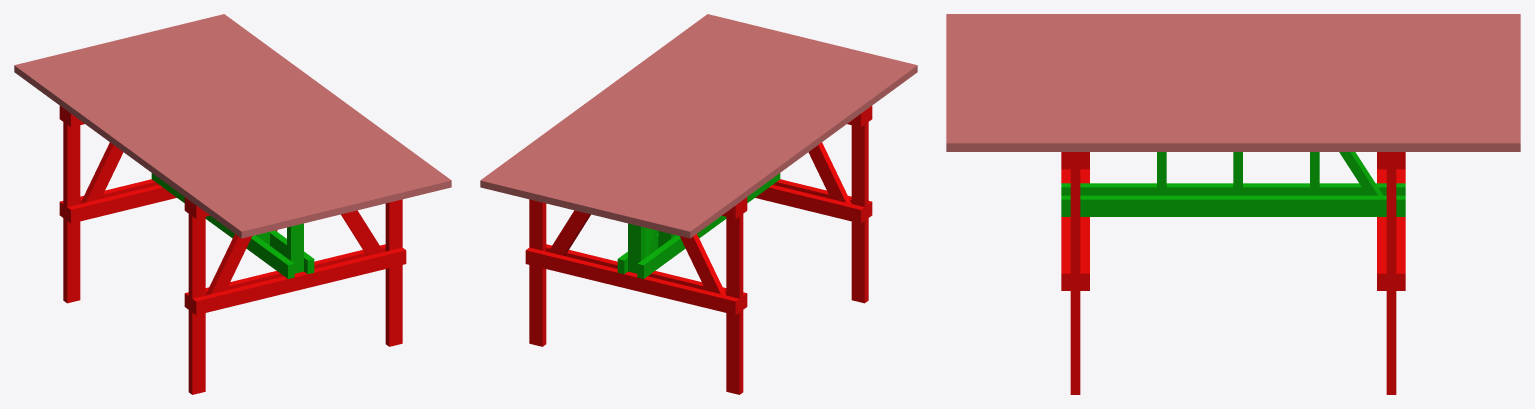
The model's file is result.glb.
The picture shows the model from 3 angles, left to right: view 1: azimuth 30°, elevation 25°; view 2: azimuth 150°, elevation 25°; view 3: azimuth 270°, elevation 25°; orthographic projection. The views are drawn at different scales.
Visible parts, largest first — view 1: 35271246-ea34-4ec2-9e37-afa7bac7e5cb__Box, 8b92faec-6083-4287-a135-32f717e7b65d__sideH, 48c559bc-23a1-4c82-92f4-0b4250e24d1e__undefined, 78a2269e-43e1-4c47-a380-e79ff9c71a5b__undefined, 9297421a-2fb1-42e6-9c2f-ee0a44c578b8__undefined, 107da0da-3193-4d42-be2b-08af71c936f6__undefined, 5f61df21-dd31-44f1-be05-f049219c79ce__undefined, 9a8c8ed5-bf7d-4f4a-8162-3fc7d1ec7a82__undefined, e8b2d282-2828-4b1d-aa57-21a5cd364a72__undefined, 3332d265-4316-4908-9f7e-878a95461efc__undefined, a285be14-9536-4756-a319-9a78d5e9d613__undefined, 9312709c-b953-45e3-a081-5a37cf7dfb03__undefined (+17 smaller); view 2: 35271246-ea34-4ec2-9e37-afa7bac7e5cb__Box, da246195-70be-41dd-81f4-46867bee27ae__undefined, 48c559bc-23a1-4c82-92f4-0b4250e24d1e__undefined, 78a2269e-43e1-4c47-a380-e79ff9c71a5b__undefined, 9297421a-2fb1-42e6-9c2f-ee0a44c578b8__undefined, 107da0da-3193-4d42-be2b-08af71c936f6__undefined, 5f61df21-dd31-44f1-be05-f049219c79ce__undefined, 9a8c8ed5-bf7d-4f4a-8162-3fc7d1ec7a82__undefined, e8b2d282-2828-4b1d-aa57-21a5cd364a72__undefined, 3332d265-4316-4908-9f7e-878a95461efc__undefined, a285be14-9536-4756-a319-9a78d5e9d613__undefined, 9312709c-b953-45e3-a081-5a37cf7dfb03__undefined (+16 smaller); view 3: 9a8c8ed5-bf7d-4f4a-8162-3fc7d1ec7a82__undefined, d8ca3034-55cf-4224-a949-6d39c838ebb6__strutH, 9297421a-2fb1-42e6-9c2f-ee0a44c578b8__undefined, ac04bc89-c05c-4e61-a384-d1fdd43e955b__undefined, 107da0da-3193-4d42-be2b-08af71c936f6__undefined, 5f61df21-dd31-44f1-be05-f049219c79ce__undefined, 396cd971-c54a-4d00-96ba-173b8401a8fc__undefined, 48c559bc-23a1-4c82-92f4-0b4250e24d1e__undefined, e8b2d282-2828-4b1d-aa57-21a5cd364a72__undefined, 9312709c-b953-45e3-a081-5a37cf7dfb03__undefined, dbcc3bc5-d2bb-4f56-b766-4cba9640e7ab__undefined, 78a2269e-43e1-4c47-a380-e79ff9c71a5b__undefined (+13 smaller).
Boxes of the visible parts, bbox=[...] form: 35271246-ea34-4ec2-9e37-afa7bac7e5cb__Box: bbox=[14, 62, 254, 238]; 8b92faec-6083-4287-a135-32f717e7b65d__sideH: bbox=[192, 247, 406, 315]; 48c559bc-23a1-4c82-92f4-0b4250e24d1e__undefined: bbox=[93, 43, 333, 219]; 78a2269e-43e1-4c47-a380-e79ff9c71a5b__undefined: bbox=[172, 23, 412, 199]; 9297421a-2fb1-42e6-9c2f-ee0a44c578b8__undefined: bbox=[27, 59, 267, 235]; 107da0da-3193-4d42-be2b-08af71c936f6__undefined: bbox=[54, 52, 294, 228]; 5f61df21-dd31-44f1-be05-f049219c79ce__undefined: bbox=[67, 49, 307, 225]; 9a8c8ed5-bf7d-4f4a-8162-3fc7d1ec7a82__undefined: bbox=[211, 14, 451, 190]; e8b2d282-2828-4b1d-aa57-21a5cd364a72__undefined: bbox=[106, 39, 346, 215]; 3332d265-4316-4908-9f7e-878a95461efc__undefined: bbox=[185, 20, 425, 196]; a285be14-9536-4756-a319-9a78d5e9d613__undefined: bbox=[198, 17, 438, 193]; 9312709c-b953-45e3-a081-5a37cf7dfb03__undefined: bbox=[119, 36, 359, 212]; 35271246-ea34-4ec2-9e37-afa7bac7e5cb__Box: bbox=[677, 62, 917, 238]; da246195-70be-41dd-81f4-46867bee27ae__undefined: bbox=[525, 247, 739, 315]; 48c559bc-23a1-4c82-92f4-0b4250e24d1e__undefined: bbox=[598, 43, 838, 219]; 78a2269e-43e1-4c47-a380-e79ff9c71a5b__undefined: bbox=[519, 23, 759, 199]; 9297421a-2fb1-42e6-9c2f-ee0a44c578b8__undefined: bbox=[664, 59, 904, 235]; 107da0da-3193-4d42-be2b-08af71c936f6__undefined: bbox=[637, 52, 877, 228]; 5f61df21-dd31-44f1-be05-f049219c79ce__undefined: bbox=[624, 49, 864, 225]; 9a8c8ed5-bf7d-4f4a-8162-3fc7d1ec7a82__undefined: bbox=[480, 14, 720, 190]; e8b2d282-2828-4b1d-aa57-21a5cd364a72__undefined: bbox=[585, 39, 825, 215]; 3332d265-4316-4908-9f7e-878a95461efc__undefined: bbox=[506, 20, 746, 196]; a285be14-9536-4756-a319-9a78d5e9d613__undefined: bbox=[493, 17, 733, 193]; 9312709c-b953-45e3-a081-5a37cf7dfb03__undefined: bbox=[572, 36, 812, 212]; 9a8c8ed5-bf7d-4f4a-8162-3fc7d1ec7a82__undefined: bbox=[946, 135, 1520, 151]; d8ca3034-55cf-4224-a949-6d39c838ebb6__strutH: bbox=[1061, 195, 1405, 216]; 9297421a-2fb1-42e6-9c2f-ee0a44c578b8__undefined: bbox=[946, 22, 1520, 30]; ac04bc89-c05c-4e61-a384-d1fdd43e955b__undefined: bbox=[946, 30, 1520, 38]; 107da0da-3193-4d42-be2b-08af71c936f6__undefined: bbox=[946, 38, 1520, 46]; 5f61df21-dd31-44f1-be05-f049219c79ce__undefined: bbox=[946, 46, 1520, 54]; 396cd971-c54a-4d00-96ba-173b8401a8fc__undefined: bbox=[946, 54, 1520, 62]; 48c559bc-23a1-4c82-92f4-0b4250e24d1e__undefined: bbox=[946, 62, 1520, 70]; e8b2d282-2828-4b1d-aa57-21a5cd364a72__undefined: bbox=[946, 70, 1520, 78]; 9312709c-b953-45e3-a081-5a37cf7dfb03__undefined: bbox=[946, 78, 1520, 86]; dbcc3bc5-d2bb-4f56-b766-4cba9640e7ab__undefined: bbox=[946, 86, 1520, 94]; 78a2269e-43e1-4c47-a380-e79ff9c71a5b__undefined: bbox=[946, 111, 1520, 119].
Size of the model in its own units: 800 by 725 by 1500.
